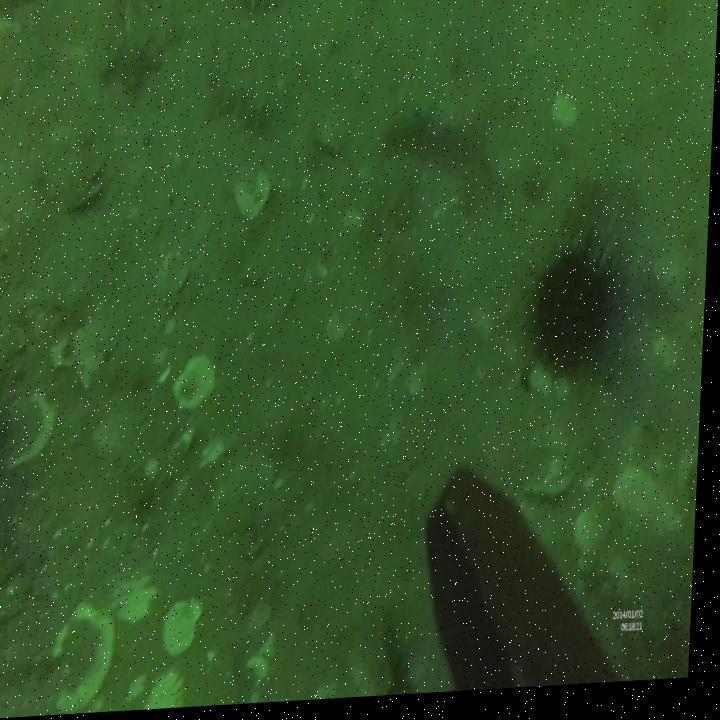echinus: (529, 227, 634, 395)
holothurian: (382, 99, 508, 202), (206, 47, 277, 142), (234, 0, 303, 22)
scallop: (52, 604, 121, 716)
